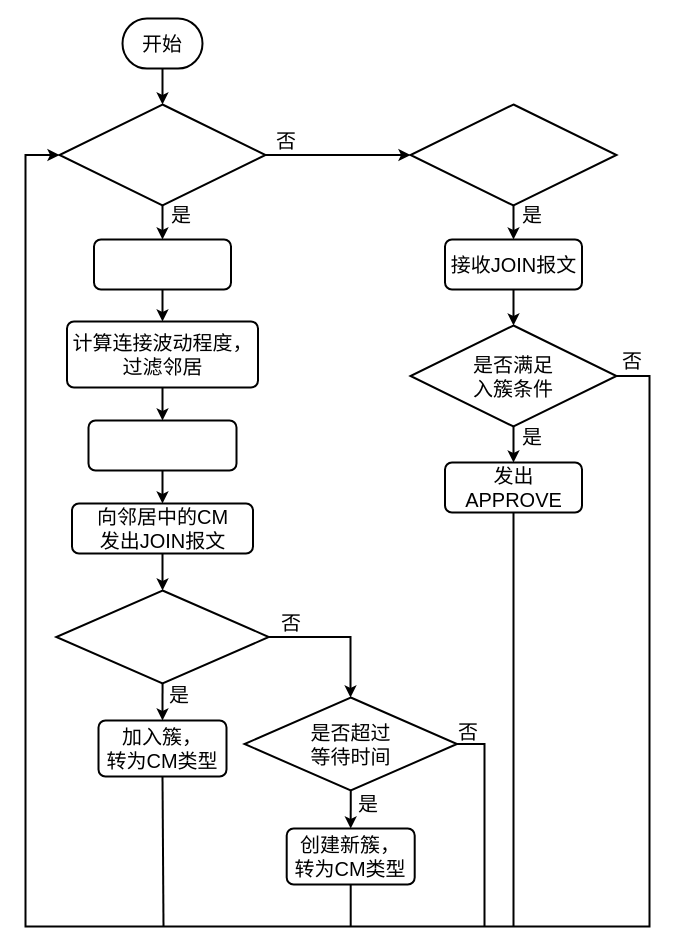
Image size: 679x952. Some labels were removed from this diagram. The shapes that lost their labels are listed below. From the top down, each one's centre as x and y in pixels, then its label:
the point at 162,154: 节点类型是否 为ON
the point at 513,154: 节点类型是否 为CM
the point at 162,264: 获取一跳邻居
the point at 162,445: 计算K近邻节点
the point at 162,636: 是否收到 APPROVE
